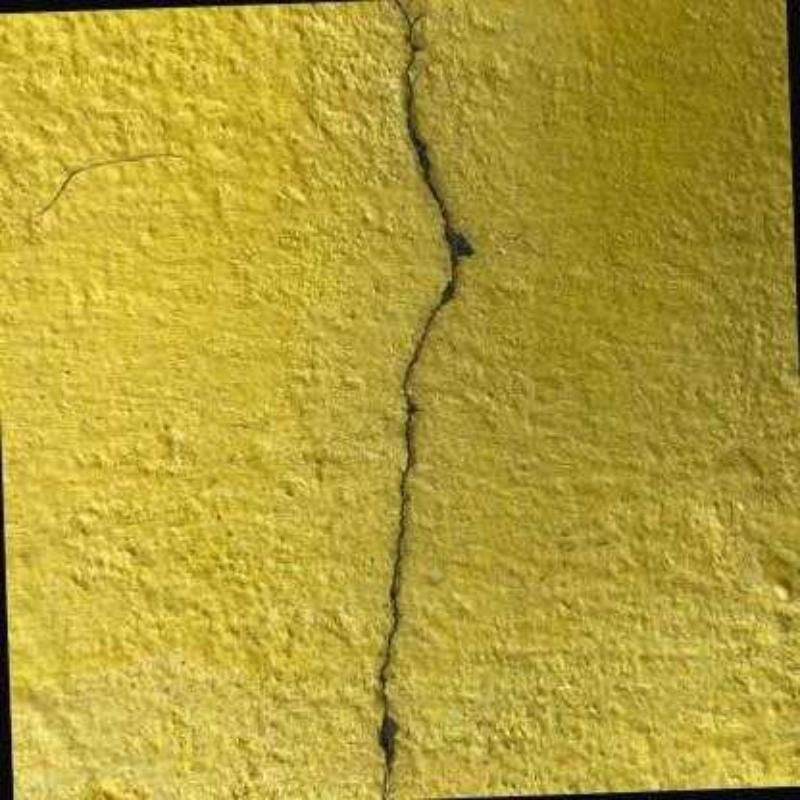pothole: (380, 1, 454, 798)
